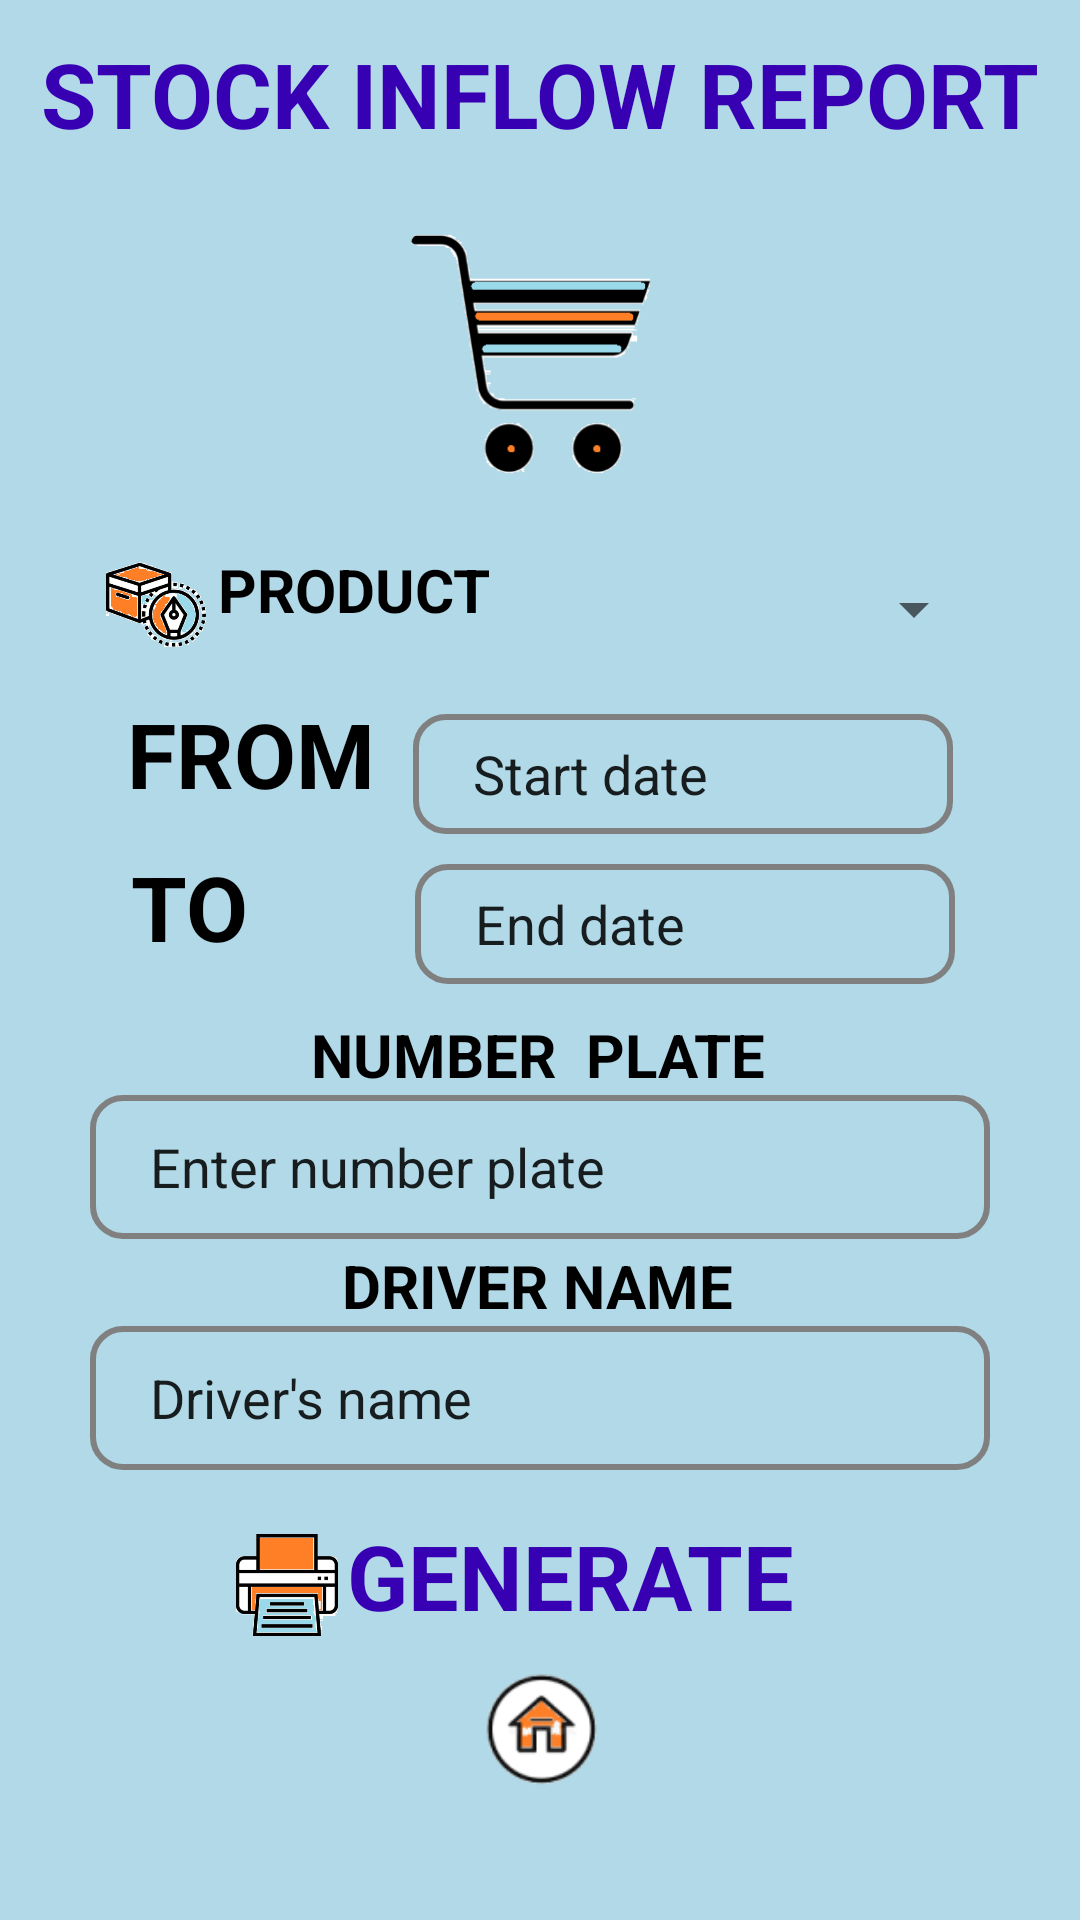

Screen size 1080 x 1920. Icon name, then its center in pixels as (x,y):
comodity: (156,604)
purcha: (530,354)
